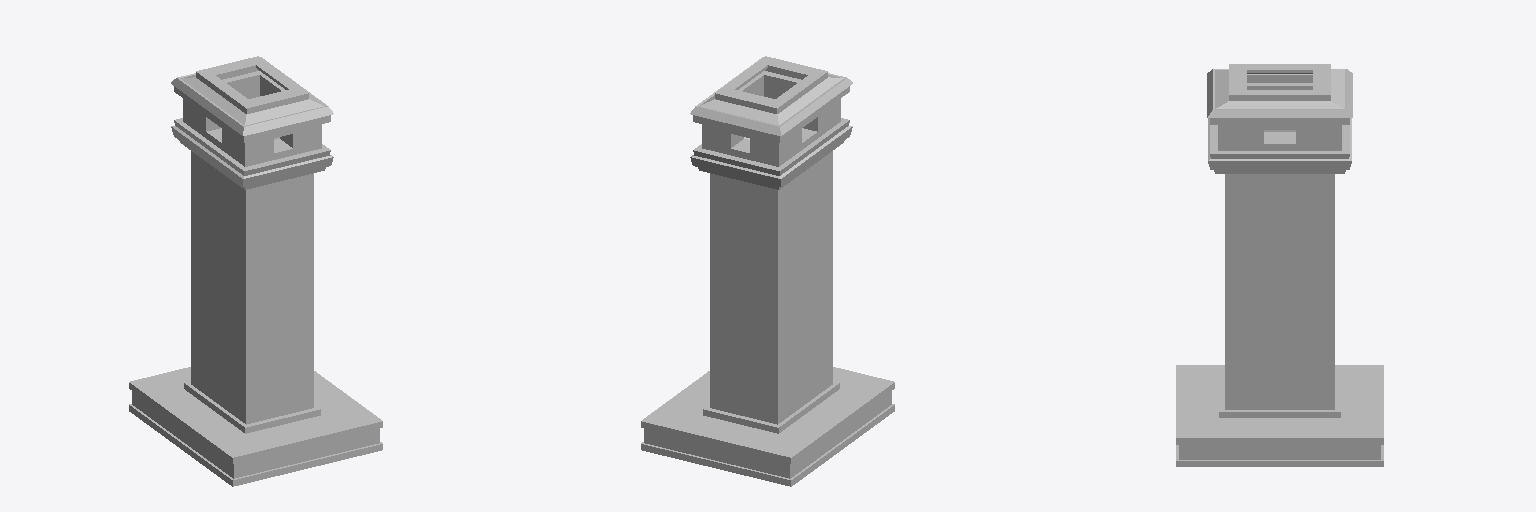
Rendered from newChimney.obj.
3 renders of one model, left to right at view 1: azimuth 30°, elevation 25°; view 2: azimuth 150°, elevation 25°; view 3: azimuth 270°, elevation 25°, orthographic.
Size of the model in its own units: 1.71 by 3.78 by 2.04.